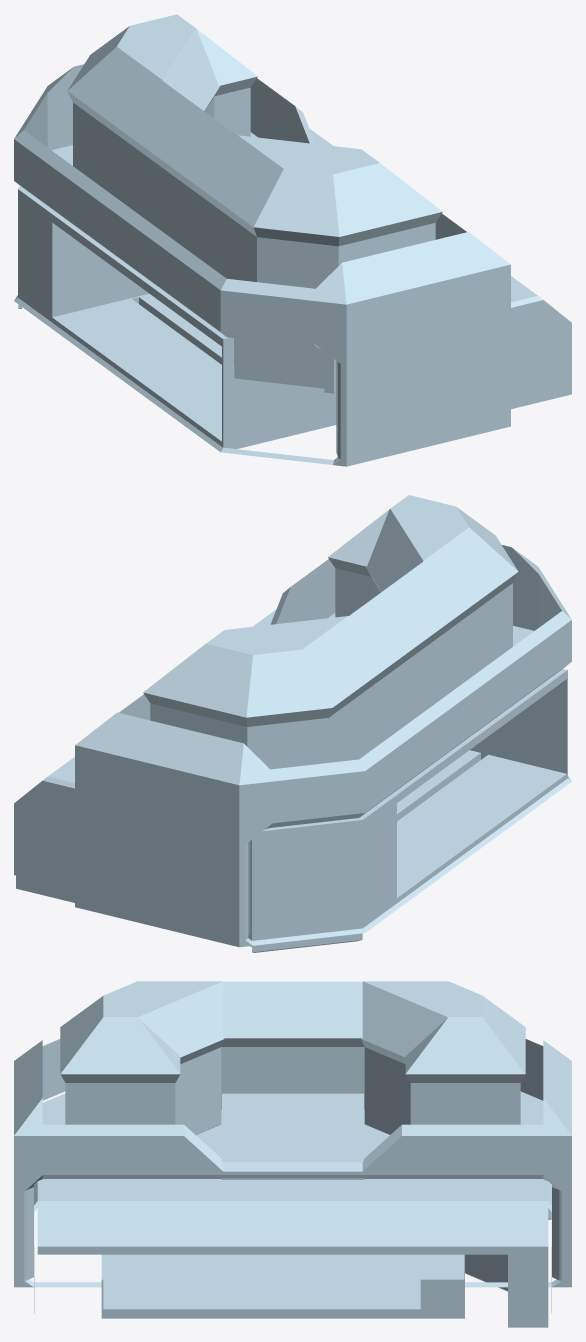
Rendered from buildin.glb.
3 renders of one model, top to bottom at view 1: azimuth 30°, elevation 25°; view 2: azimuth 150°, elevation 25°; view 3: azimuth 270°, elevation 25°, orthographic. The views are drawn at different scales.
Parts seen in each view (by area): view 1: Part 1; view 2: Part 1; view 3: Part 1.
Boxes of the visible parts, <box> form: Part 1: <box>14,14,571,466</box>; Part 1: <box>14,495,571,952</box>; Part 1: <box>14,981,571,1327</box>.
Bounding box in the file's own units: 0.1981 × 0.155 × 0.3246.
